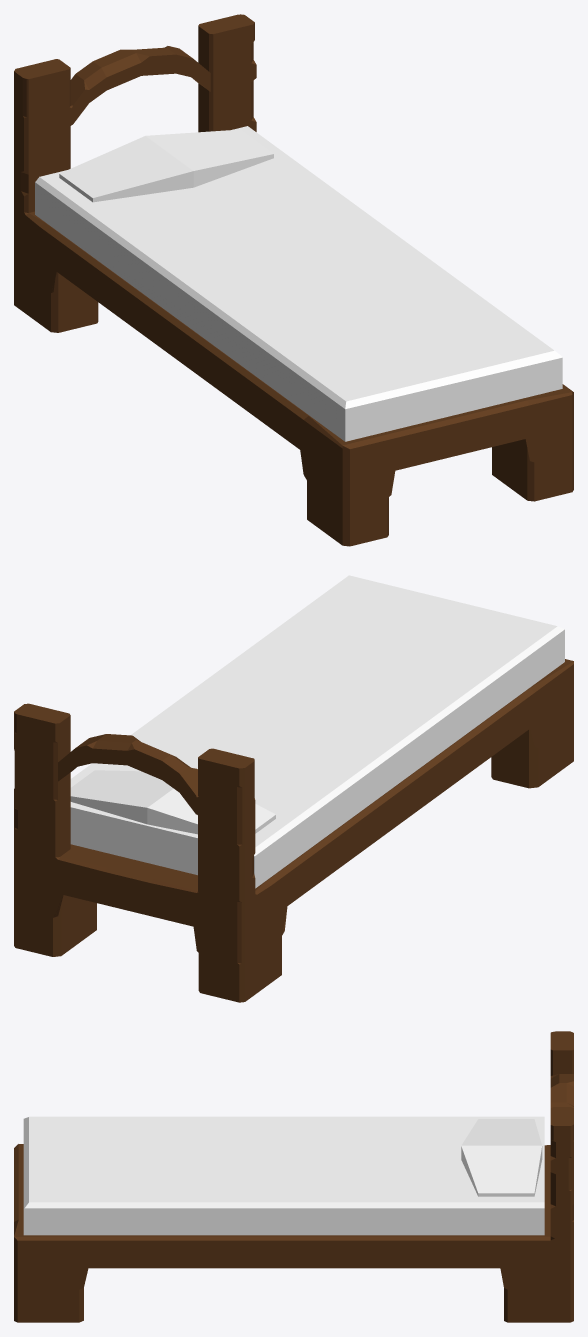
Rendered from Bed.fbx.
3 views of the same model, one above another, from view 1: azimuth 30°, elevation 25°; view 2: azimuth 150°, elevation 25°; view 3: azimuth 270°, elevation 25° (orthographic). The views are drawn at different scales.
Parts seen in each view (by area): view 1: Cube.002, Cube, Cube.003; view 2: Cube.002, Cube, Cube.003; view 3: Cube.002, Cube, Cube.003.
Boxes of the visible parts, x1,y1,x2,y2 form: Cube.002: [35, 126, 562, 441]; Cube: [14, 14, 573, 546]; Cube.003: [59, 129, 273, 202]; Cube.002: [70, 575, 564, 888]; Cube: [14, 659, 573, 1002]; Cube.003: [70, 770, 275, 834]; Cube.002: [23, 1116, 544, 1235]; Cube: [14, 1031, 573, 1322]; Cube.003: [461, 1119, 542, 1196].
Size of the model in its own units: 400 by 387 by 1000.
